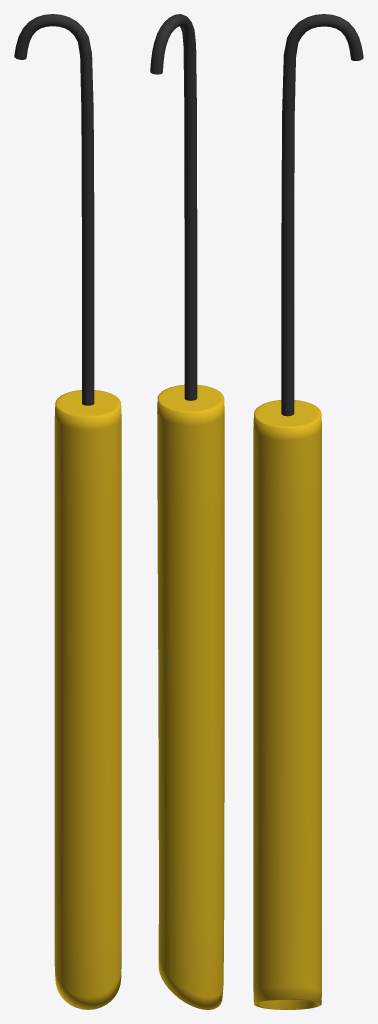
Rendered from Chime_L.fbx.
The picture shows the model from 3 angles, left to right: view 1: azimuth 90°, elevation 25°; view 2: azimuth 150°, elevation 25°; view 3: azimuth 270°, elevation 25°; orthographic projection. The views are drawn at different scales.
Visible parts, largest first — view 1: Cylinder, Vert; view 2: Cylinder, Vert; view 3: Cylinder, Vert.
Boxes of the visible parts, box(x1,y1,x2,y2) form: Cylinder: box(54, 390, 121, 1009); Vert: box(14, 14, 94, 405); Cylinder: box(157, 384, 224, 1009); Vert: box(150, 14, 197, 400); Cylinder: box(253, 400, 321, 1009); Vert: box(281, 14, 363, 416).
Size of the model in its own units: 50.88 by 827 by 81.87.
